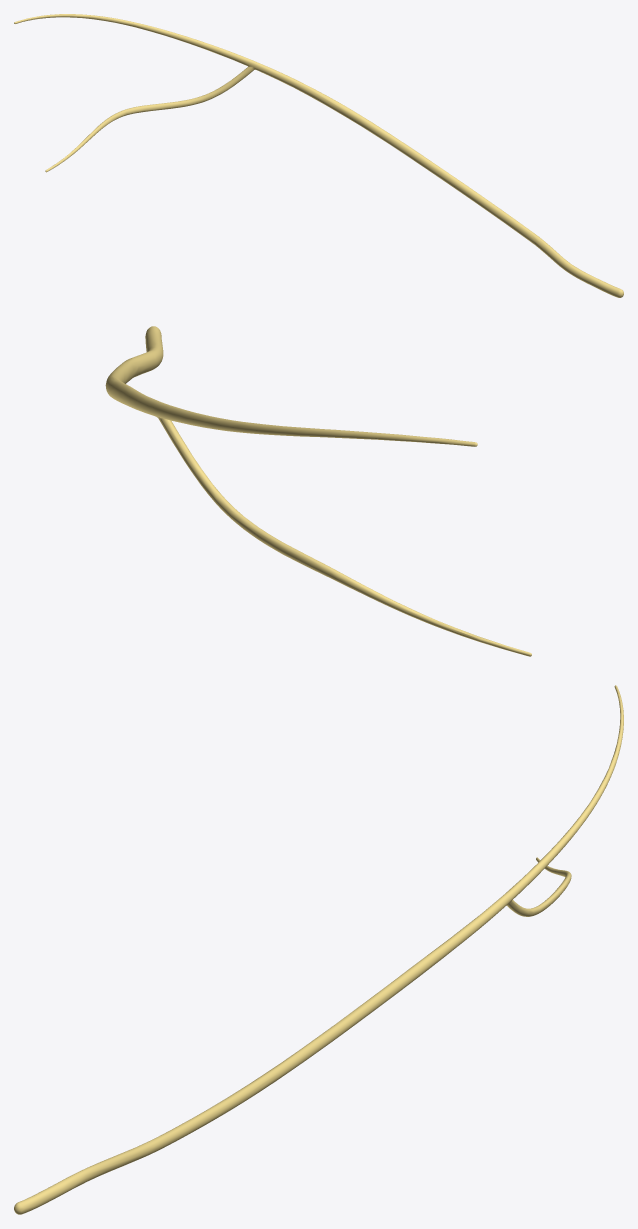
Rendered from fma53287_fj3964.glb.
The picture shows the model from 3 angles, top to bottom: view 1: azimuth 30°, elevation 25°; view 2: azimuth 150°, elevation 25°; view 3: azimuth 270°, elevation 25°; orthographic projection. The views are drawn at different scales.
Parts seen in each view (by area): view 1: FMA53287_FJ3964; view 2: FMA53287_FJ3964; view 3: FMA53287_FJ3964.
Part boxes in pixels (x1,y1,x2,y2): FMA53287_FJ3964: (14, 14, 623, 297); FMA53287_FJ3964: (105, 326, 531, 656); FMA53287_FJ3964: (14, 685, 623, 1214).
Size of the model in its own units: 0.0548 by 0.0279 by 0.0556.
